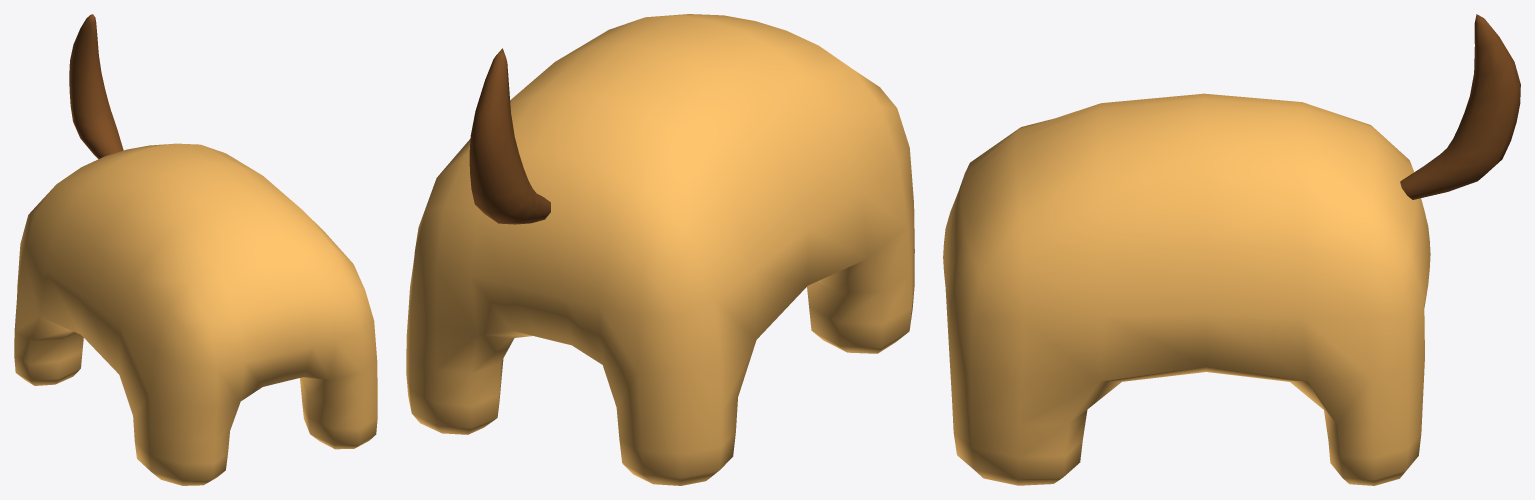
Rendered from dogbody.fbx.
The picture shows the model from 3 angles, left to right: view 1: azimuth 30°, elevation 25°; view 2: azimuth 150°, elevation 25°; view 3: azimuth 270°, elevation 25°; orthographic projection. The views are drawn at different scales.
Parts seen in each view (by area): view 1: dog_body; view 2: dog_body; view 3: dog_body.
Part boxes in pixels (left/top/right/bottom): dog_body: left=14, top=14, right=377, bottom=485; dog_body: left=406, top=14, right=914, bottom=485; dog_body: left=943, top=14, right=1520, bottom=485.
Bounding box in the file's own units: 37.53 × 50.2 × 63.49.
